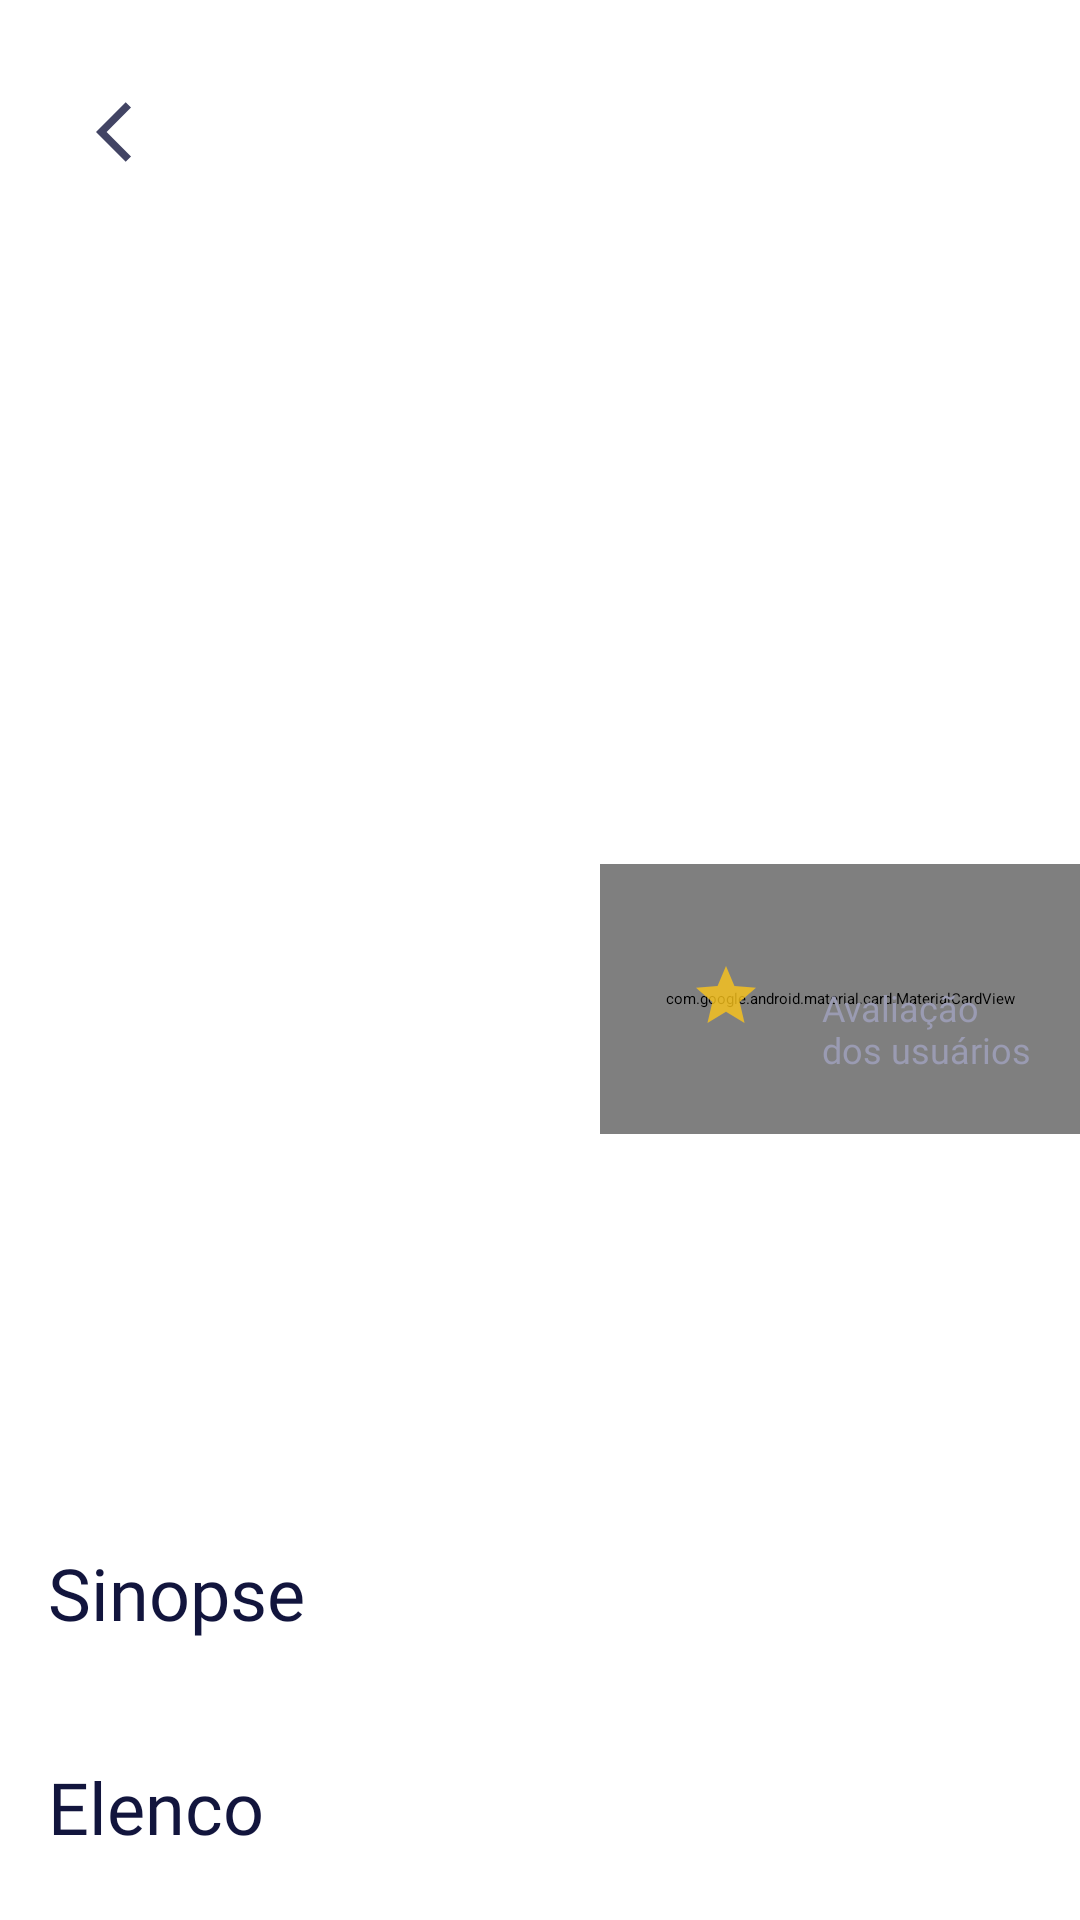

Icon bounding boxes for this 1080 x 1920 phone screenshot, format (x1, y1, x2, y2):
Retornar: (96, 102, 131, 162)
